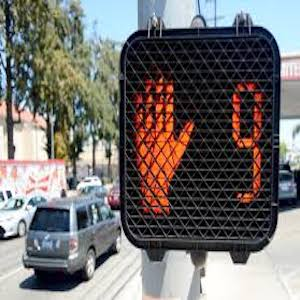red: (129, 74, 186, 211)
